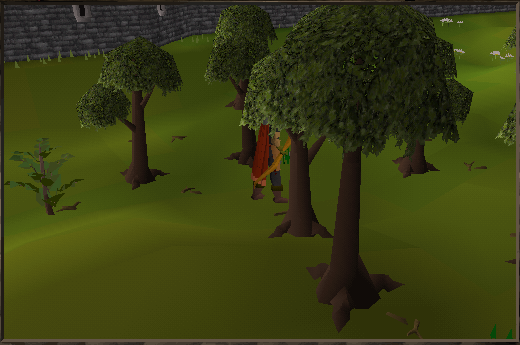Tree: (285, 3, 437, 313), (88, 44, 177, 187), (213, 6, 259, 161)
